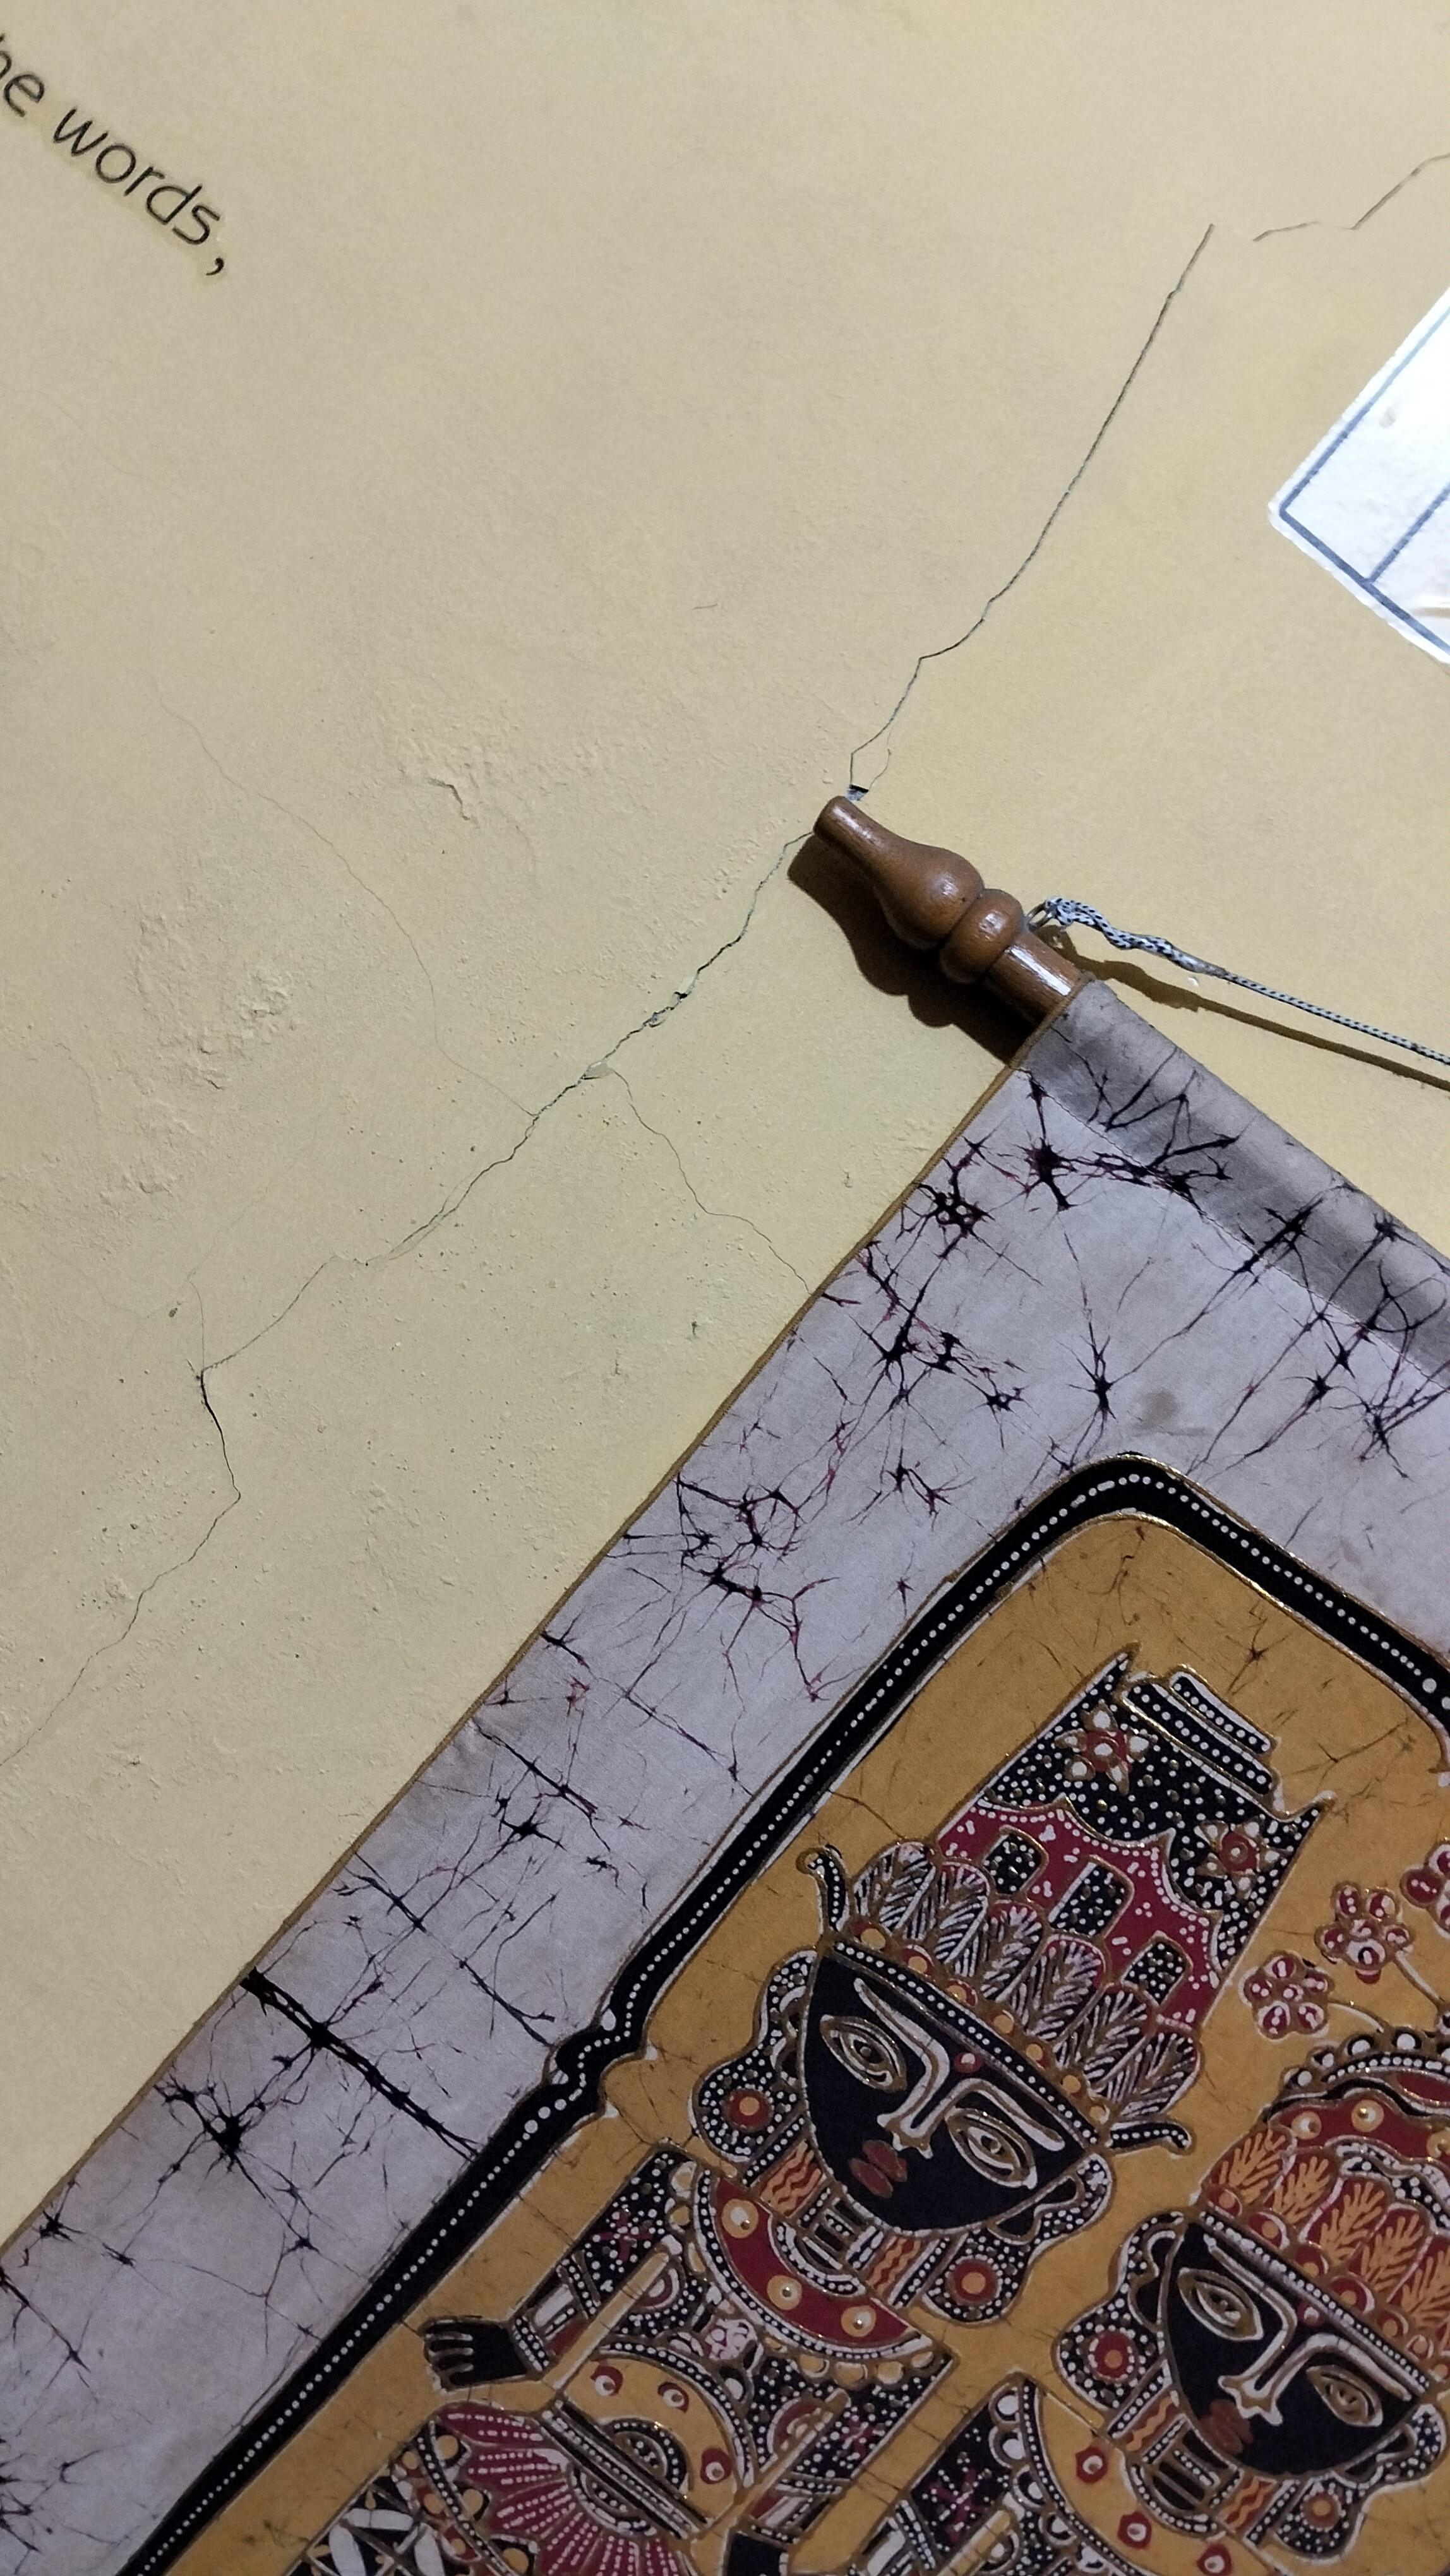Crack: (322, 830, 813, 1286), (848, 218, 1220, 798), (0, 1352, 273, 1790), (1190, 138, 1450, 265), (188, 1247, 343, 1398)
